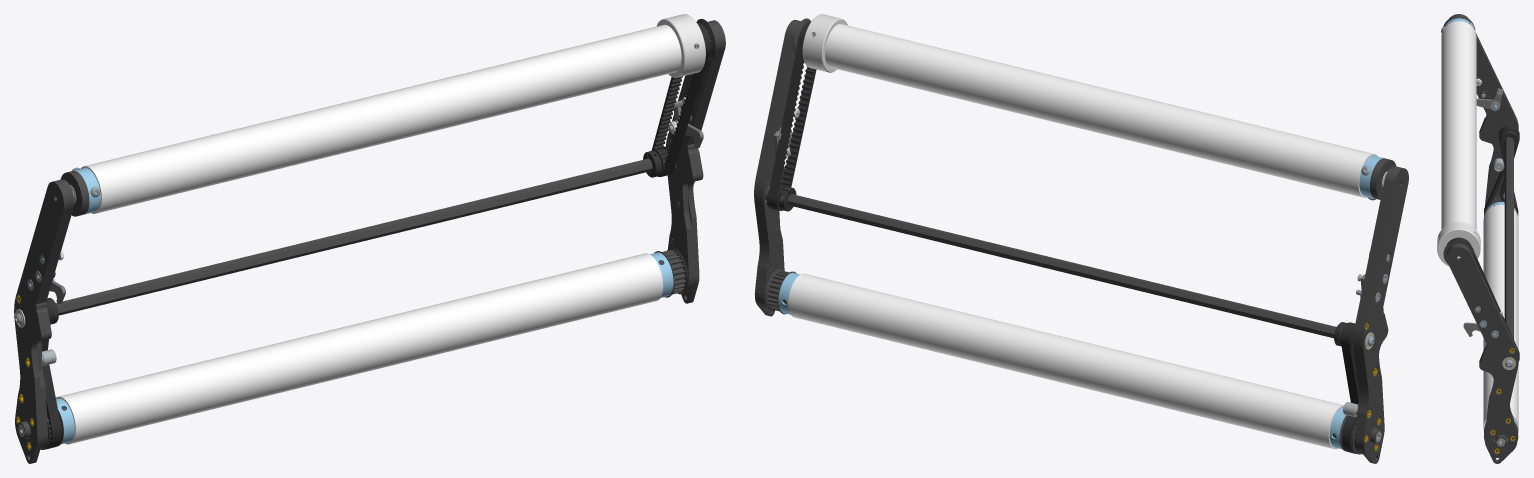
3 views of the same model, side by side, from view 1: azimuth 30°, elevation 25°; view 2: azimuth 150°, elevation 25°; view 3: azimuth 270°, elevation 25° (orthographic). The views are drawn at different scales.
Parts seen in each view (by area): view 1: Roller Silicone__Roller Silicone, Roller material__Roller material, Second Kicker Shaft__Second Kicker Shaft, Outer Kicker Arm Plate - Left__Outer Kicker Arm Plate - Left, Inner Kicker Arm Plate - Right__Inner Kicker Arm Plate - Rig, 75T 5M 9mm Wide Belt__75T 5M 9mm Wide Belt, Outer Kicker Arm Plate - Right__Outer Kicker Arm Plate - Rig, Drill guide__Drill guide, Inner Kicker Arm Plate - Left__Inner Kicker Arm Plate - Left, 62T 5M 9mm Wide Belt__62T 5M 9mm Wide Belt, Roller Tube__Roller Tube, Roller End B__Roller End B (+1 smaller); view 2: Roller Silicone__Roller Silicone, Roller material__Roller material, Second Kicker Shaft__Second Kicker Shaft, Outer Kicker Arm Plate - Left__Outer Kicker Arm Plate - Left, Inner Kicker Arm Plate - Right__Inner Kicker Arm Plate - Rig, 75T 5M 9mm Wide Belt__75T 5M 9mm Wide Belt, Outer Kicker Arm Plate - Right__Outer Kicker Arm Plate - Rig, Inner Kicker Arm Plate - Left__Inner Kicker Arm Plate - Left, Drill guide__Drill guide, 62T 5M 9mm Wide Belt__62T 5M 9mm Wide Belt, Roller Tube__Roller Tube, Roller End B__Roller End B; view 3: Roller material__Roller material, Outer Kicker Arm Plate - Right__Outer Kicker Arm Plate - Rig, Roller Silicone__Roller Silicone, Inner Kicker Arm Plate - Left__Inner Kicker Arm Plate - Left, Second Kicker Shaft__Second Kicker Shaft, Drill guide__Drill guide, 62T 5M 9mm Wide Belt__62T 5M 9mm Wide Belt, Kicker Lock__Kicker Lock (×2), 75T 5M 9mm Wide Belt__75T 5M 9mm Wide Belt, Outer Kicker Arm Plate - Left__Outer Kicker Arm Plate - Left, Inner Kicker Arm Plate - Right__Inner Kicker Arm Plate - Rig, 3/8" Hex Clamping Shaft Collar__3/8" Hex Clamping Shaft Coll (+2 smaller).
Boxes of the visible parts, x1=… form: Roller Silicone__Roller Silicone: x1=56, y1=253, x2=663, y2=444; Roller material__Roller material: x1=80, y1=24, x2=681, y2=213; Second Kicker Shaft__Second Kicker Shaft: x1=20, y1=158, x2=652, y2=322; Outer Kicker Arm Plate - Left__Outer Kicker Arm Plate - Left: x1=14, y1=180, x2=68, y2=463; Inner Kicker Arm Plate - Right__Inner Kicker Arm Plate - Rig: x1=666, y1=21, x2=720, y2=291; 75T 5M 9mm Wide Belt__75T 5M 9mm Wide Belt: x1=652, y1=22, x2=710, y2=176; Outer Kicker Arm Plate - Right__Outer Kicker Arm Plate - Rig: x1=681, y1=20, x2=725, y2=303; Drill guide__Drill guide: x1=657, y1=14, x2=705, y2=77; Inner Kicker Arm Plate - Left__Inner Kicker Arm Plate - Left: x1=36, y1=179, x2=74, y2=449; 62T 5M 9mm Wide Belt__62T 5M 9mm Wide Belt: x1=41, y1=302, x2=61, y2=449; Roller Tube__Roller Tube: x1=56, y1=252, x2=673, y2=444; Roller End B__Roller End B: x1=654, y1=247, x2=688, y2=297; Roller Silicone__Roller Silicone: x1=788, y1=273, x2=1343, y2=449; Roller material__Roller material: x1=825, y1=24, x2=1377, y2=197; Second Kicker Shaft__Second Kicker Shaft: x1=787, y1=194, x2=1369, y2=344; Outer Kicker Arm Plate - Left__Outer Kicker Arm Plate - Left: x1=1358, y1=167, x2=1408, y2=463; Inner Kicker Arm Plate - Right__Inner Kicker Arm Plate - Rig: x1=758, y1=21, x2=800, y2=308; 75T 5M 9mm Wide Belt__75T 5M 9mm Wide Belt: x1=767, y1=22, x2=816, y2=210; Outer Kicker Arm Plate - Right__Outer Kicker Arm Plate - Rig: x1=754, y1=20, x2=798, y2=316; Inner Kicker Arm Plate - Left__Inner Kicker Arm Plate - Left: x1=1353, y1=166, x2=1398, y2=454; Drill guide__Drill guide: x1=802, y1=14, x2=847, y2=72; 62T 5M 9mm Wide Belt__62T 5M 9mm Wide Belt: x1=1341, y1=322, x2=1358, y2=453; Roller Tube__Roller Tube: x1=778, y1=272, x2=1345, y2=449; Roller End B__Roller End B: x1=765, y1=268, x2=796, y2=314; Roller material__Roller material: x1=1441, y1=21, x2=1476, y2=229; Outer Kicker Arm Plate - Right__Outer Kicker Arm Plate - Rig: x1=1446, y1=245, x2=1518, y2=463; Roller Silicone__Roller Silicone: x1=1483, y1=204, x2=1518, y2=430; Inner Kicker Arm Plate - Left__Inner Kicker Arm Plate - Left: x1=1476, y1=36, x2=1518, y2=205; Second Kicker Shaft__Second Kicker Shaft: x1=1504, y1=137, x2=1513, y2=339; Drill guide__Drill guide: x1=1437, y1=222, x2=1480, y2=266; 62T 5M 9mm Wide Belt__62T 5M 9mm Wide Belt: x1=1484, y1=125, x2=1519, y2=214; Kicker Lock__Kicker Lock (×2): x1=1463, y1=88, x2=1502, y2=336; 75T 5M 9mm Wide Belt__75T 5M 9mm Wide Belt: x1=1446, y1=237, x2=1519, y2=360; Outer Kicker Arm Plate - Left__Outer Kicker Arm Plate - Left: x1=1449, y1=14, x2=1518, y2=205; Inner Kicker Arm Plate - Right__Inner Kicker Arm Plate - Rig: x1=1446, y1=243, x2=1518, y2=435; 3/8" Hex Clamping Shaft Collar__3/8" Hex Clamping Shaft Coll: x1=1499, y1=130, x2=1518, y2=148.
Bounding box in the file's own units: 0.654 × 0.2902 × 0.0964.
